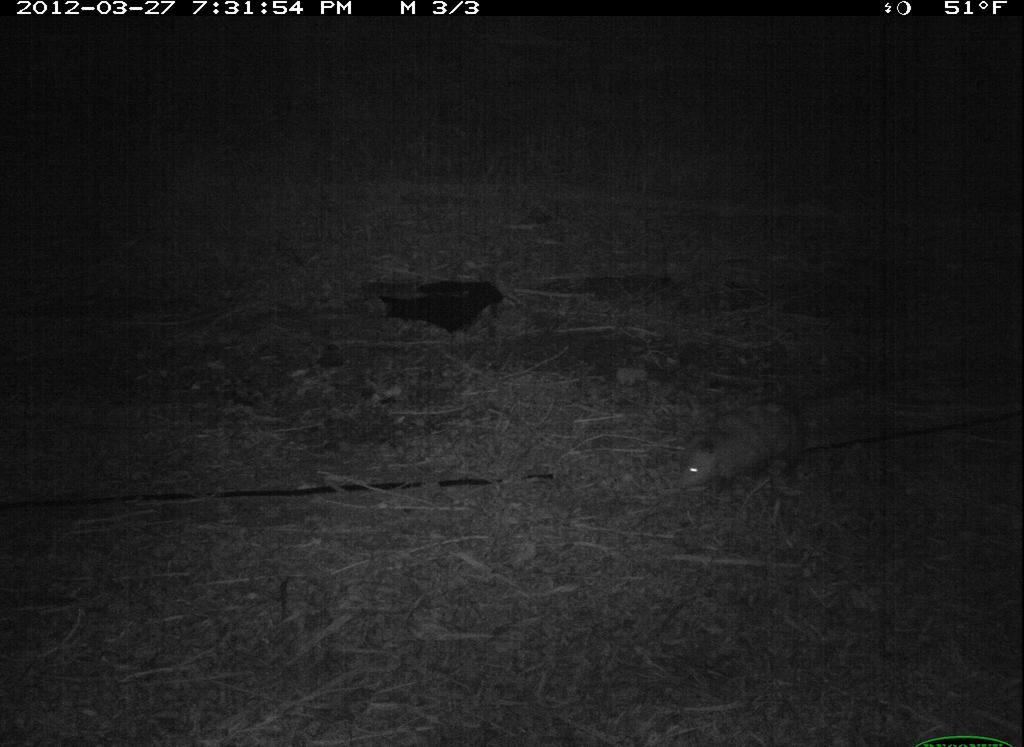opossum: (671, 392, 812, 501)
